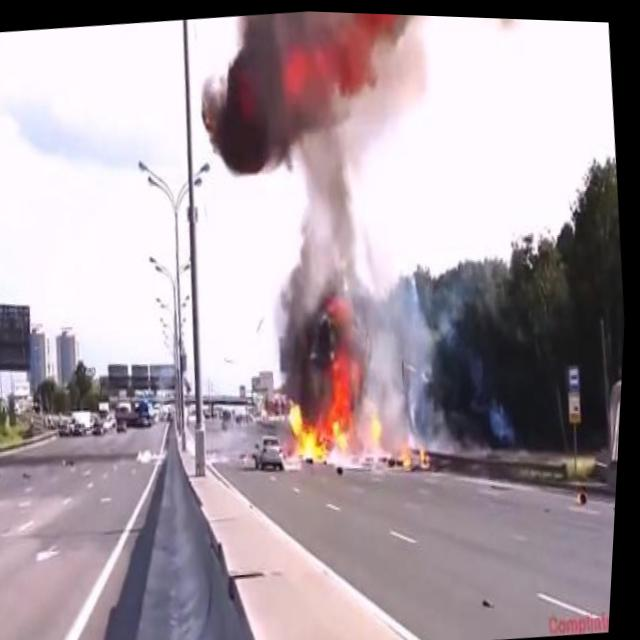fire: (275, 288, 445, 481)
